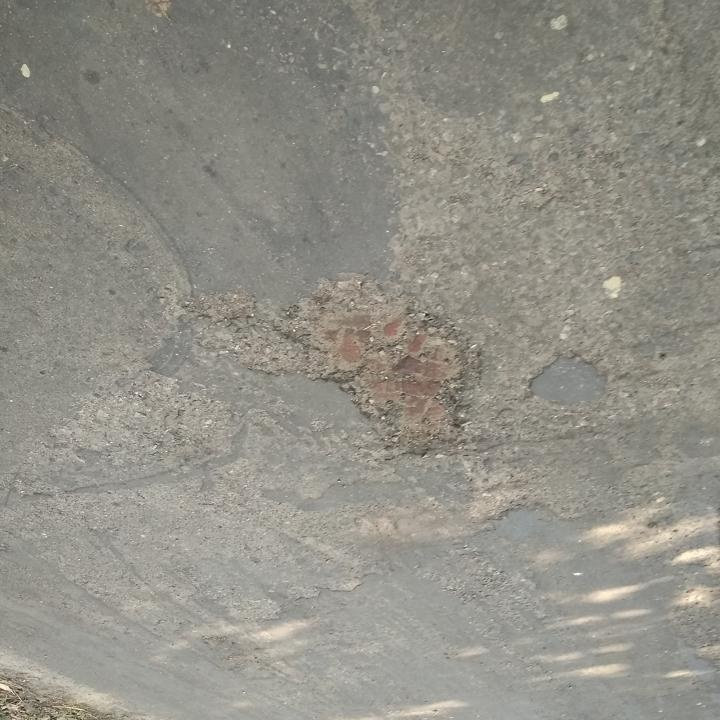pothole: (282, 277, 484, 464)
